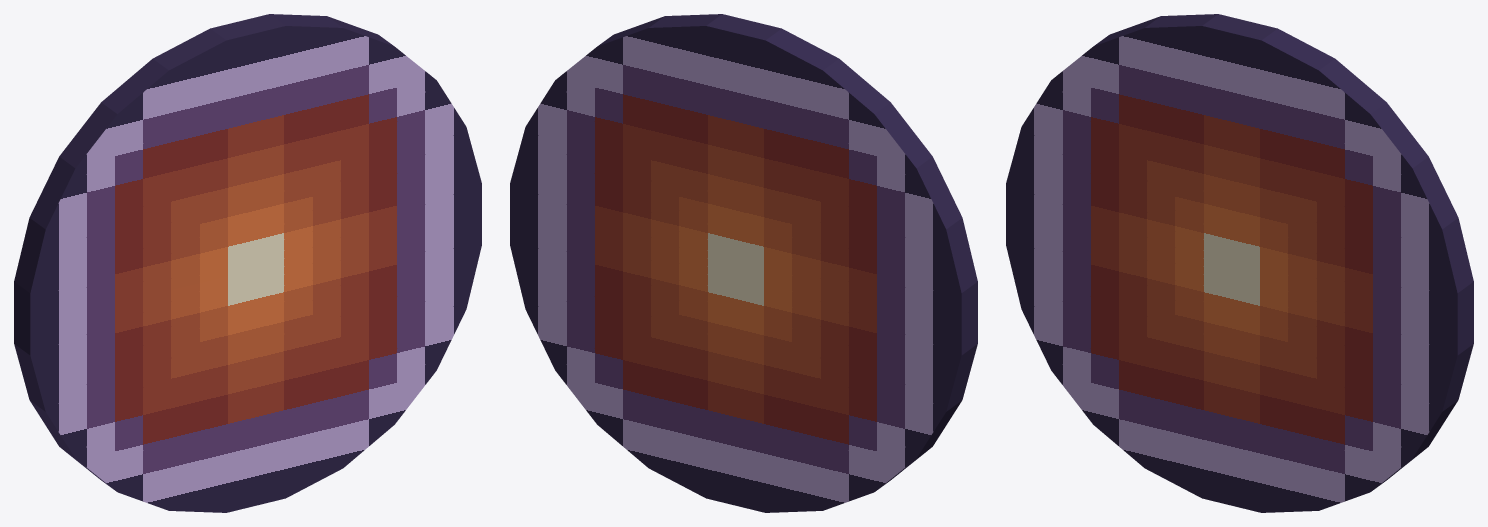
File: orangelight.obj
3 views of the same model, side by side, from view 1: azimuth 30°, elevation 25°; view 2: azimuth 150°, elevation 25°; view 3: azimuth 330°, elevation 25° (orthographic).
Visible parts, largest first — view 1: cylinder; view 2: cylinder; view 3: cylinder.
Boxes of the visible parts, x1=… form: cylinder: x1=14, y1=14, x2=481, y2=512; cylinder: x1=510, y1=14, x2=977, y2=512; cylinder: x1=1006, y1=14, x2=1473, y2=512.
Bounding box in the file's own units: 1 × 1 × 0.0625.
